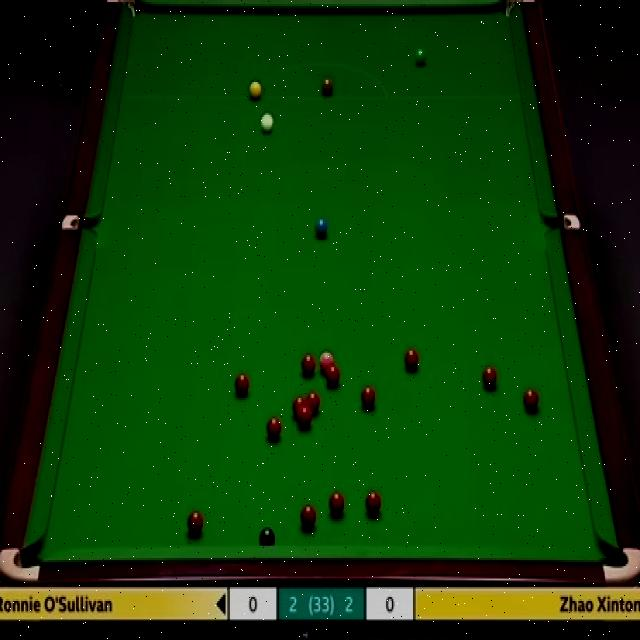black-ball: (260, 526, 278, 546)
blue-ball: (314, 218, 329, 236)
brown-ball: (322, 78, 334, 100)
green-ball: (416, 48, 426, 62)
pink-ball: (319, 351, 334, 371)
red-ball: (329, 488, 345, 516), (305, 391, 322, 417), (300, 504, 317, 530), (480, 365, 498, 389), (186, 510, 203, 535), (522, 387, 539, 412), (269, 416, 285, 440), (366, 491, 382, 514), (234, 374, 250, 396), (402, 349, 418, 370), (298, 406, 312, 428), (360, 387, 376, 406), (300, 354, 314, 374), (326, 364, 340, 384), (292, 397, 306, 416)
white-ball: (260, 112, 275, 134)
yellow-ball: (249, 80, 262, 101)
